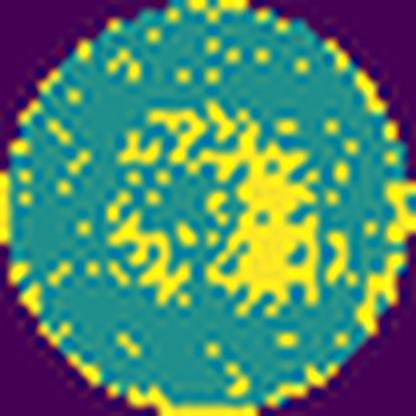Donut: (96, 92, 328, 324)
